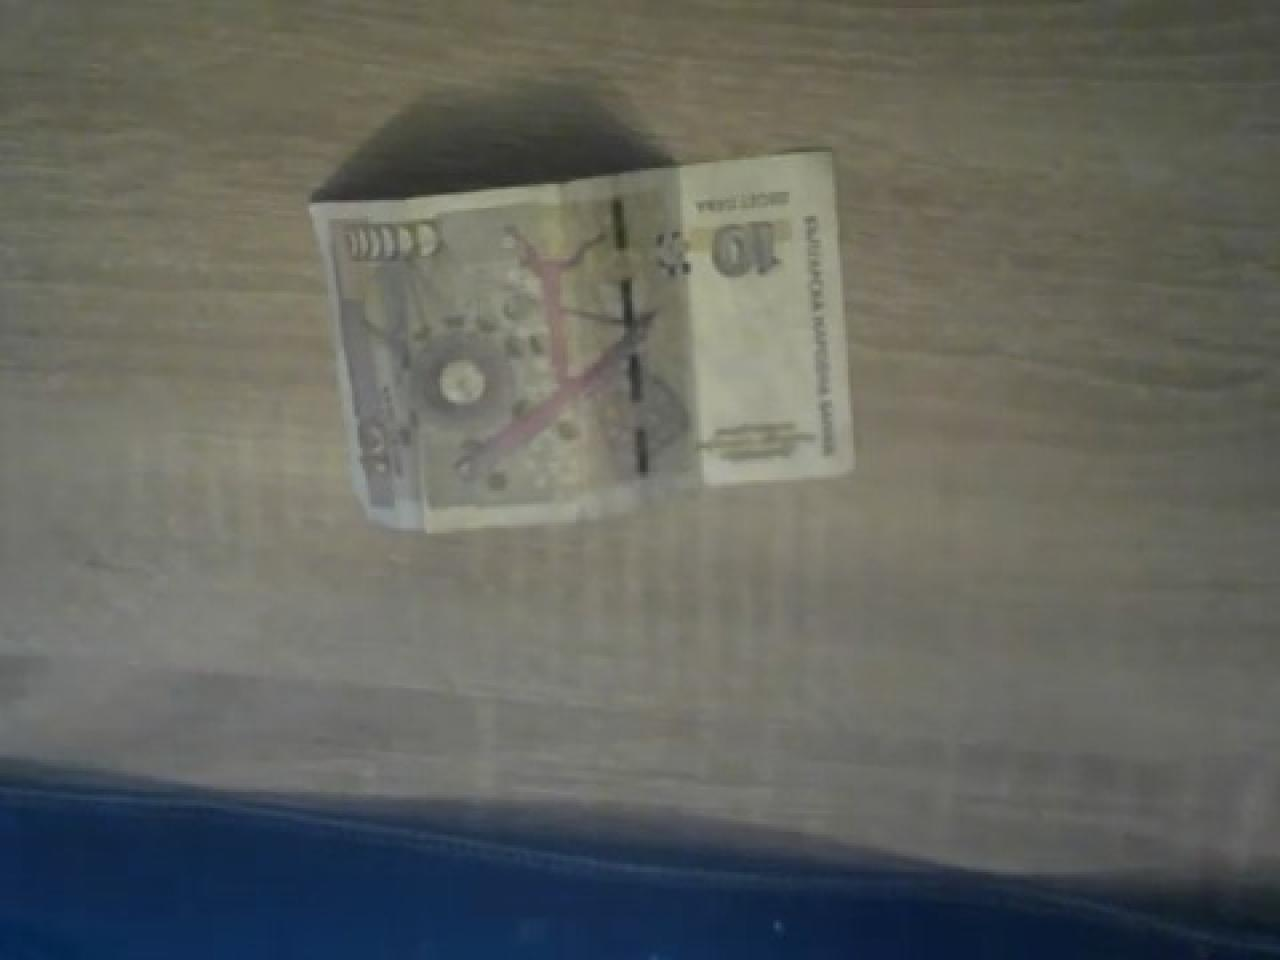10leva: (309, 146, 859, 530)
